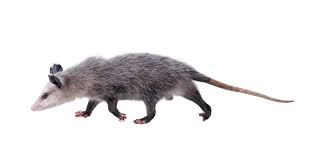opossum: (31, 53, 297, 124)
